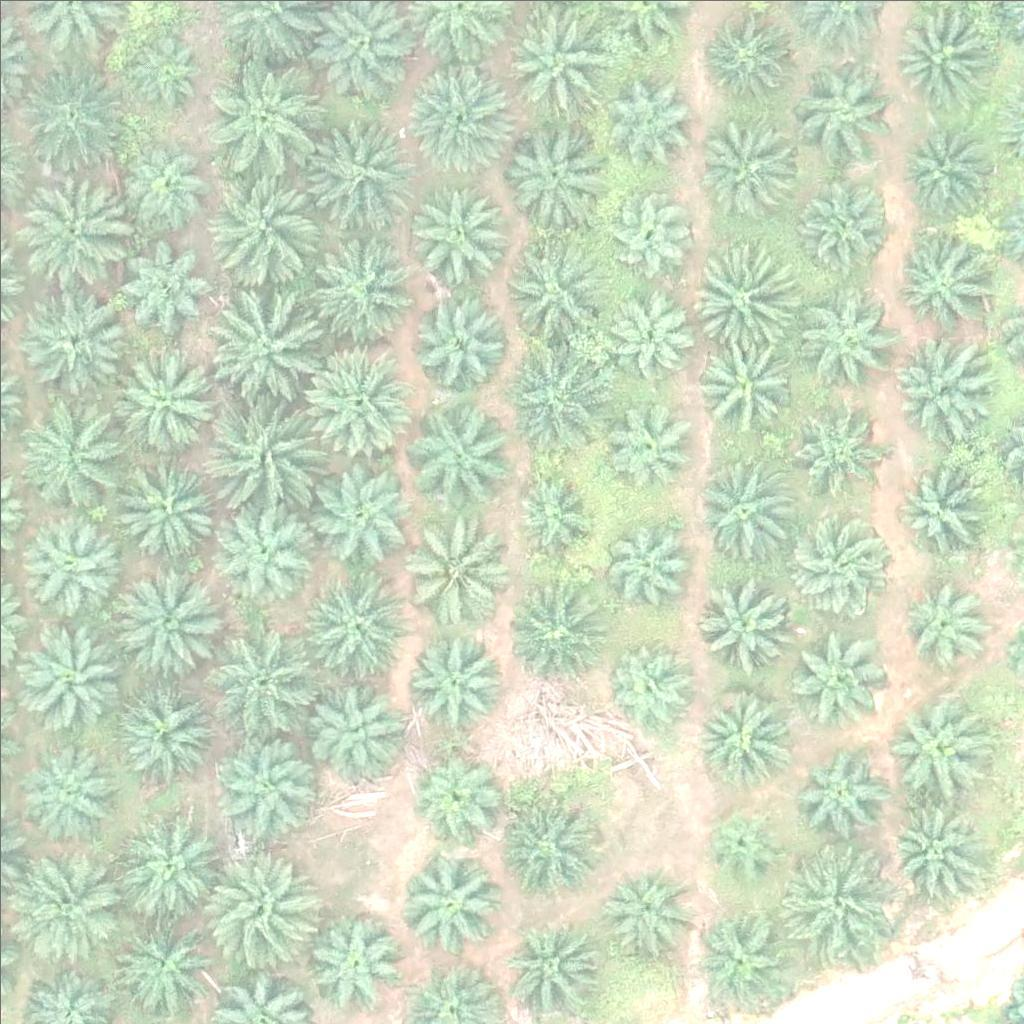Kelapa_Sawit: (19, 276, 132, 390), (301, 119, 414, 233), (13, 850, 126, 964), (781, 842, 894, 956), (211, 394, 324, 507), (202, 165, 315, 278), (301, 230, 414, 343), (404, 393, 517, 506), (402, 58, 515, 171), (498, 238, 611, 351), (497, 338, 610, 451), (14, 616, 127, 729), (303, 572, 416, 685), (208, 59, 320, 173), (688, 238, 800, 352), (13, 395, 125, 508), (12, 163, 124, 276), (13, 61, 125, 174), (107, 342, 219, 455), (206, 282, 318, 395), (303, 346, 415, 459), (109, 567, 221, 680), (205, 622, 317, 735), (211, 732, 323, 845), (204, 852, 316, 965), (395, 509, 507, 622), (689, 907, 789, 1008), (503, 915, 603, 1016), (112, 232, 212, 333), (412, 287, 512, 388), (404, 183, 504, 284), (501, 119, 601, 220), (689, 327, 789, 428), (797, 279, 897, 380), (795, 169, 895, 270), (890, 233, 990, 334), (19, 515, 119, 616), (20, 744, 120, 845), (121, 814, 221, 915), (117, 681, 217, 782), (122, 453, 222, 554), (213, 498, 313, 599), (306, 677, 406, 778), (313, 463, 413, 564), (401, 629, 501, 730), (398, 854, 498, 955), (502, 794, 602, 895), (789, 513, 889, 614), (897, 572, 997, 673), (307, 914, 407, 1014), (701, 117, 801, 217), (792, 60, 892, 160), (891, 453, 991, 553), (888, 337, 988, 437), (111, 908, 211, 1008), (507, 576, 607, 676), (693, 687, 793, 787), (693, 574, 793, 674), (694, 459, 794, 559), (785, 629, 885, 729), (881, 799, 981, 899), (890, 693, 990, 793), (610, 396, 698, 484), (606, 284, 694, 372), (708, 13, 796, 101), (787, 395, 875, 483), (900, 129, 988, 217), (510, 475, 598, 563), (600, 865, 688, 953), (113, 141, 200, 229), (605, 187, 692, 275), (604, 68, 691, 156), (411, 755, 498, 843), (604, 521, 691, 609), (607, 644, 694, 732), (797, 744, 884, 832), (705, 807, 780, 883), (127, 30, 202, 106)
